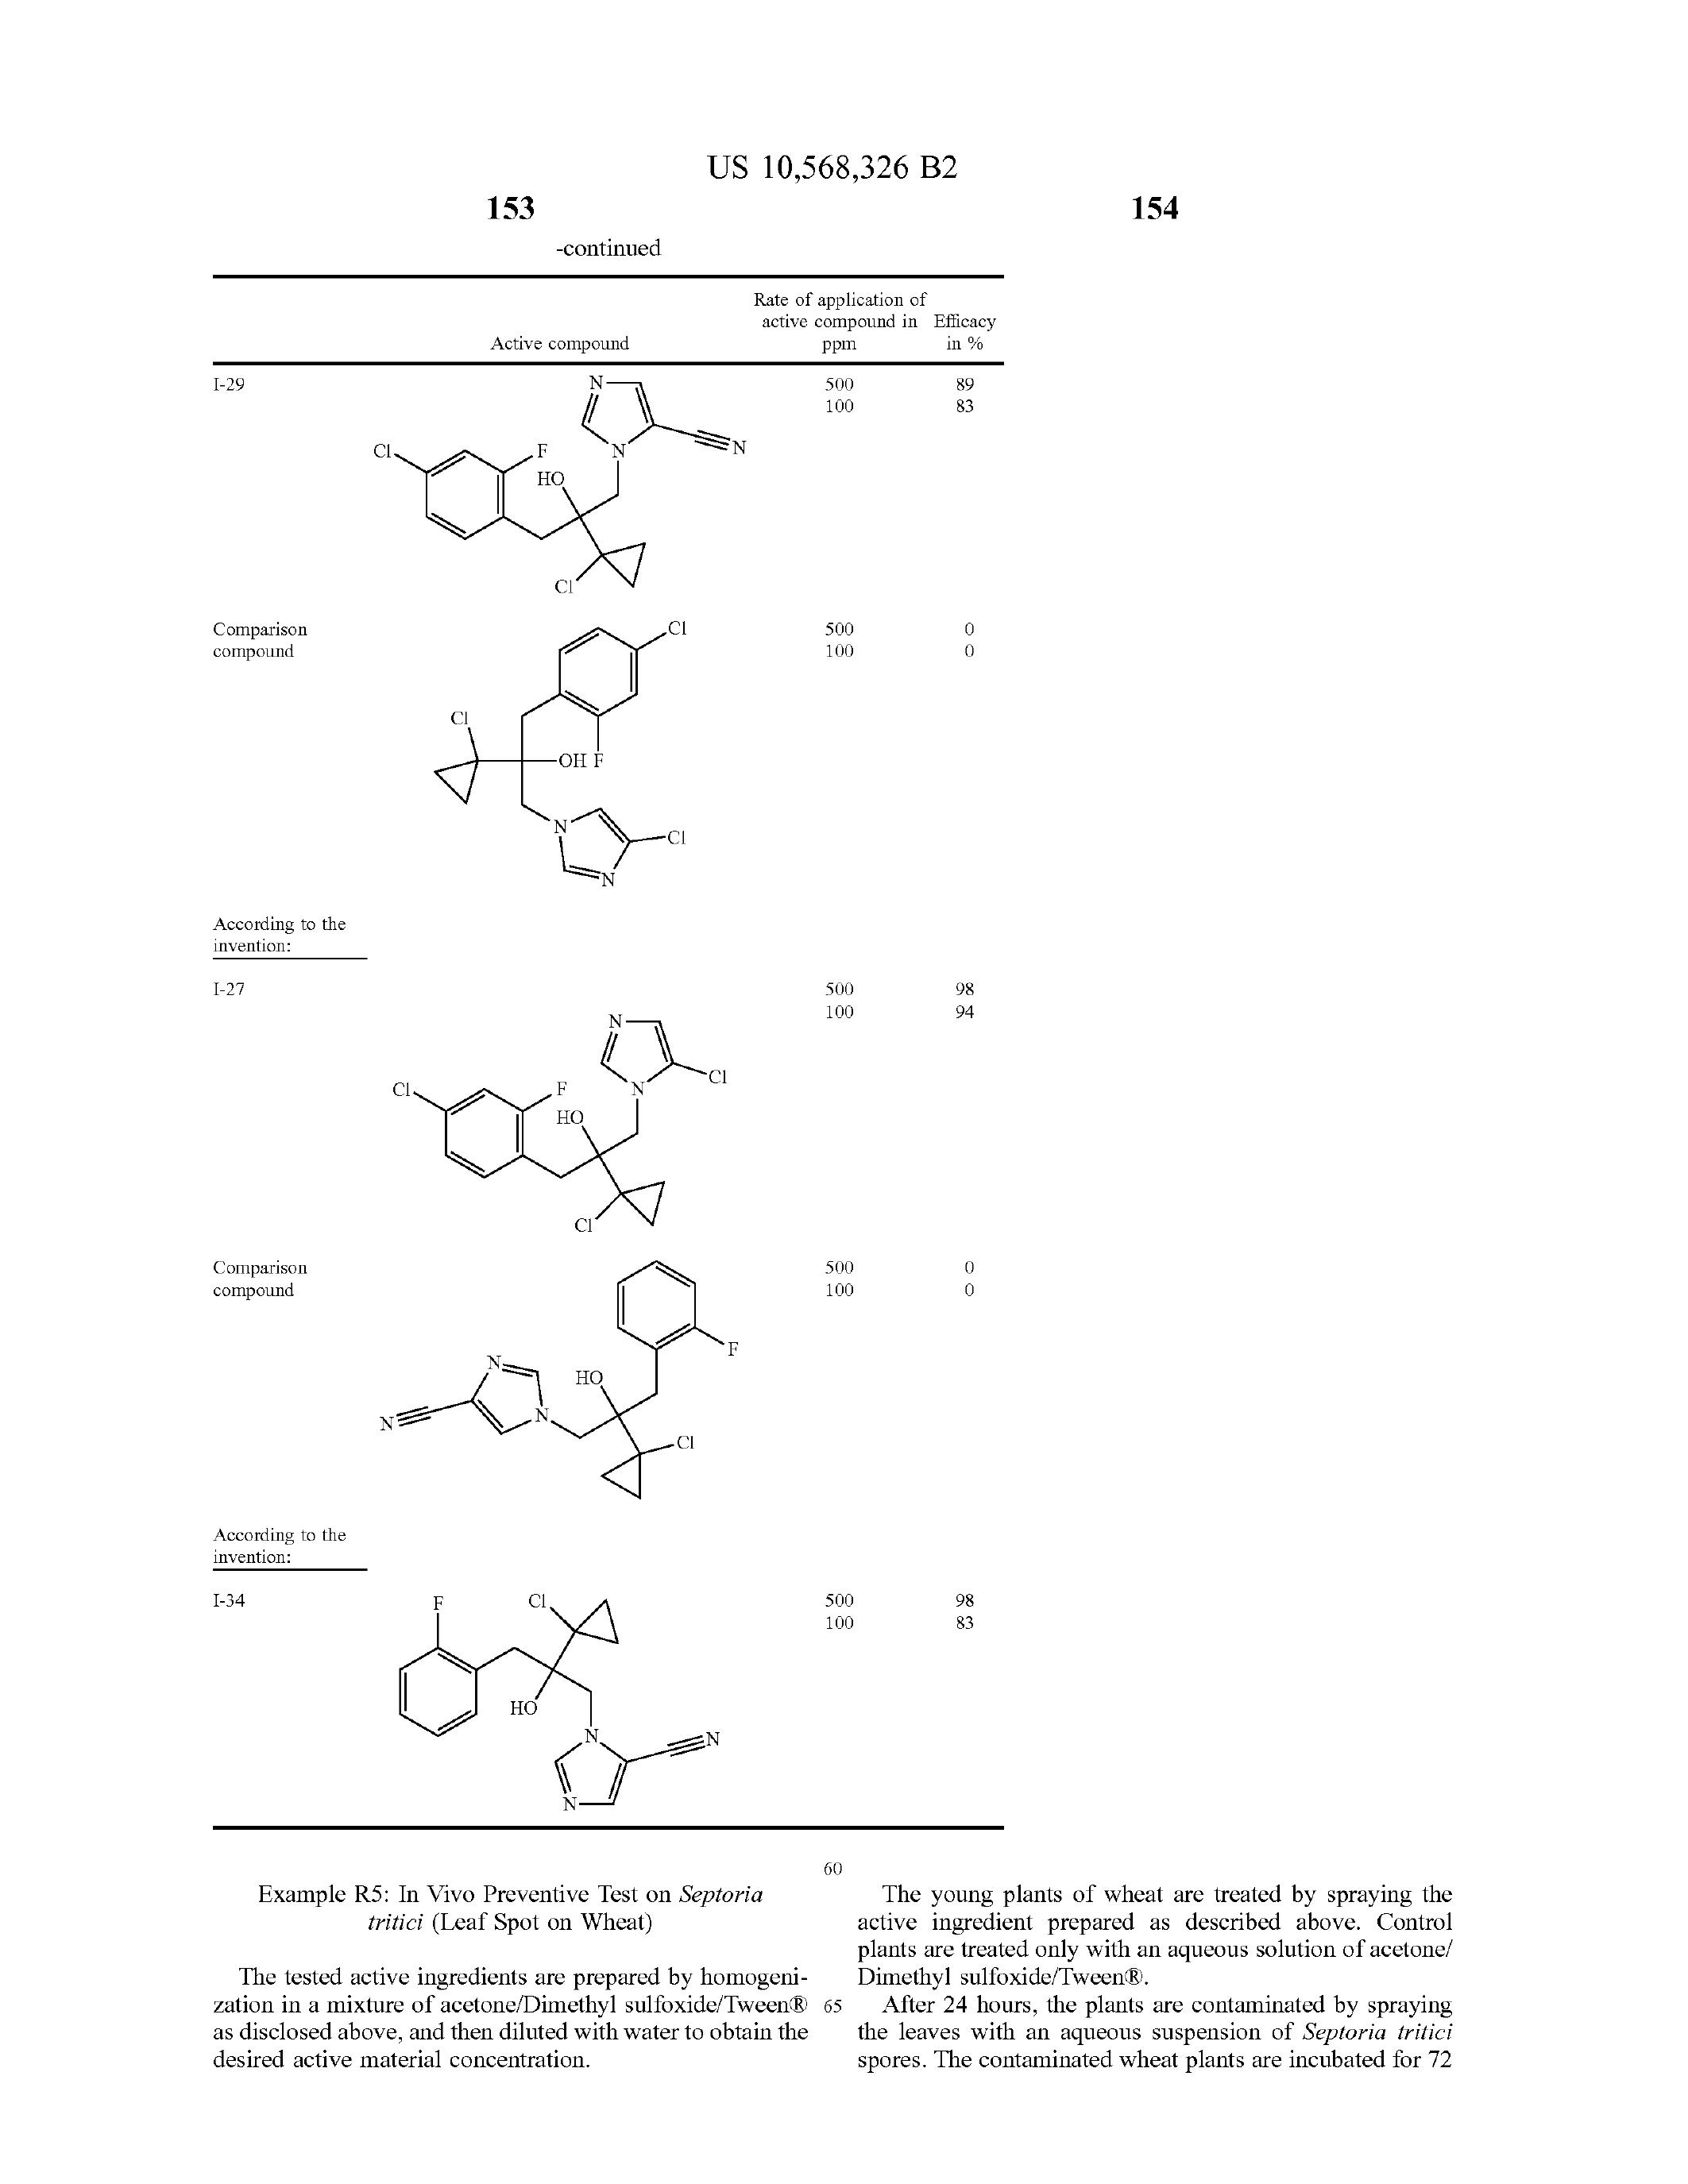relevant-structures: (374, 624, 803, 943), (349, 1266, 839, 1532), (360, 954, 787, 1255), (340, 356, 766, 619), (383, 1560, 768, 1805)
